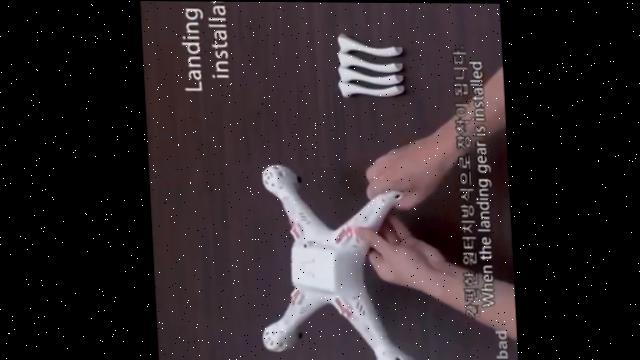drone: (249, 156, 422, 360)
